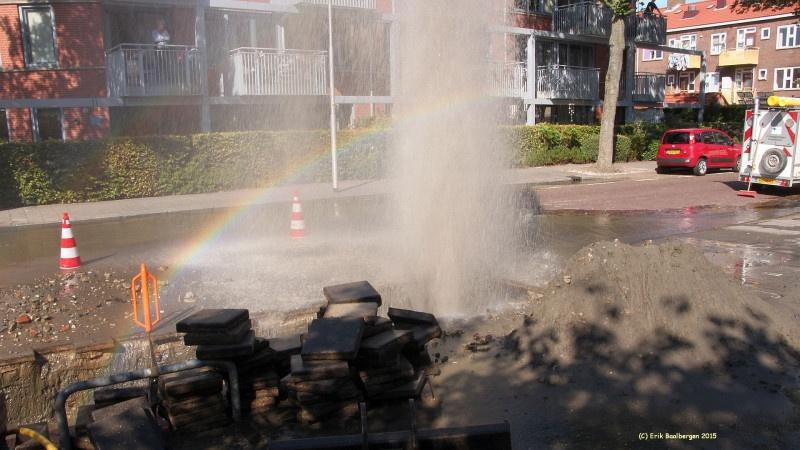pipe burst: (388, 0, 517, 318)
water accumulation: (0, 200, 800, 362)
